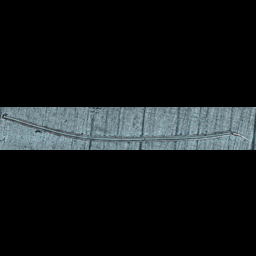d: (1, 111, 251, 143)
